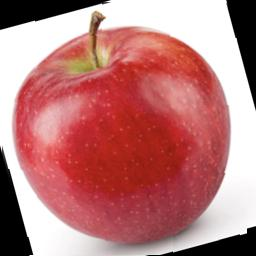Apple Fresh: (0, 0, 247, 255)
